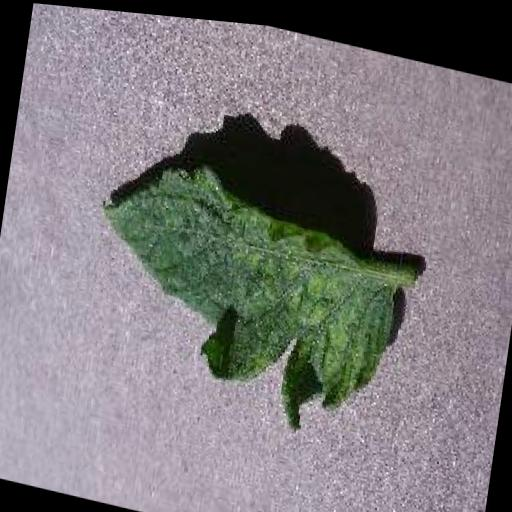Mosaic Virus: (76, 141, 411, 448)
